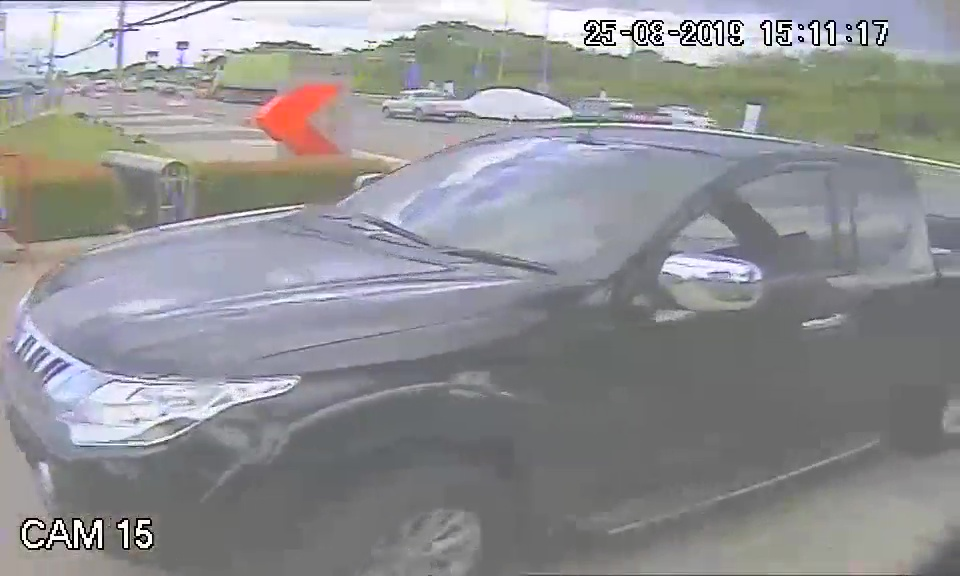pickup: (8, 113, 955, 540)
